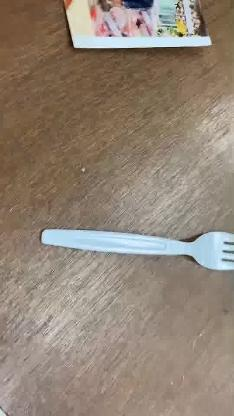Others: (43, 227, 234, 269)
